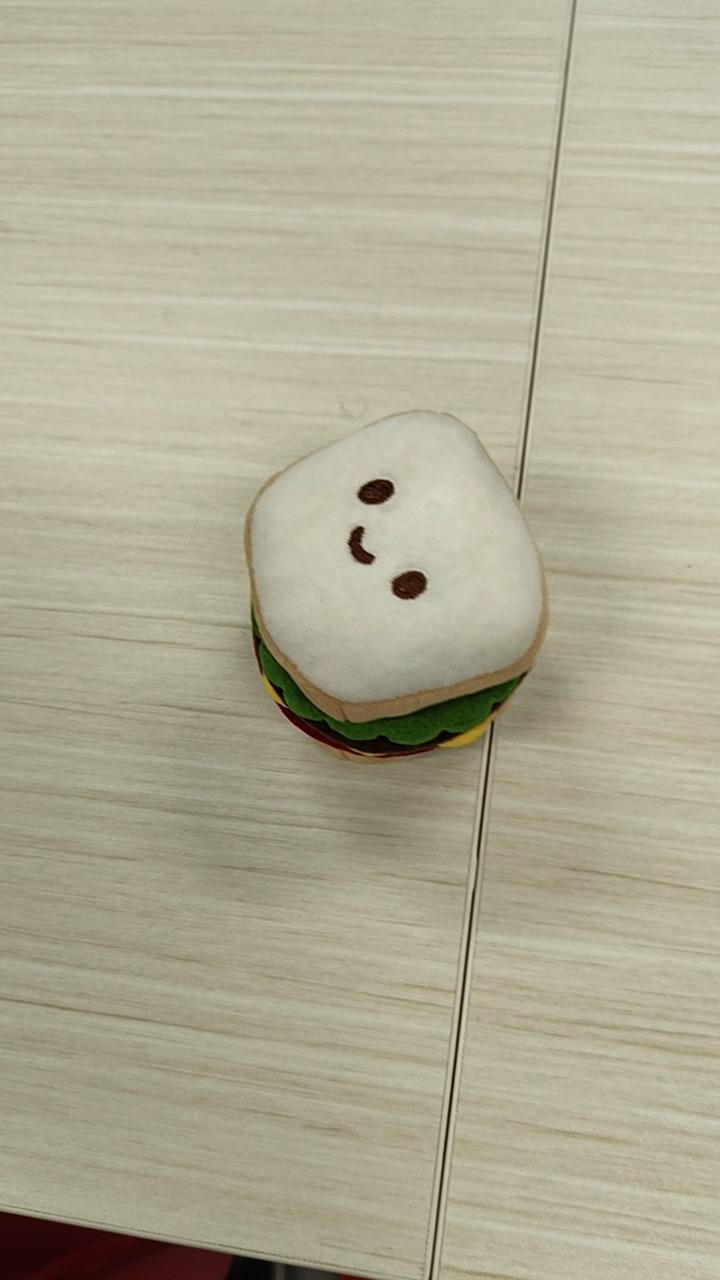objects: (242, 407, 549, 764)
